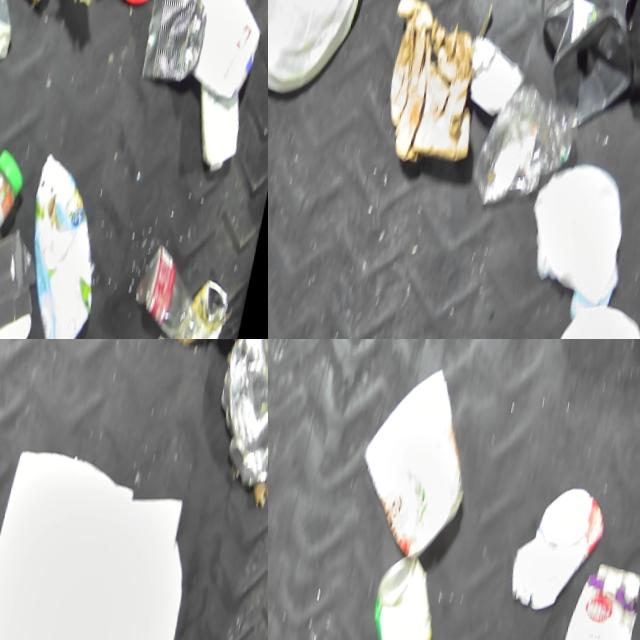can: (509, 463, 616, 610), (367, 541, 453, 640), (137, 0, 217, 80), (181, 257, 240, 339)
milk_jug: (524, 142, 640, 304), (268, 0, 380, 92), (534, 282, 640, 339)
non_white_jug: (545, 543, 640, 640)
plastic_bottle: (143, 225, 223, 329)
